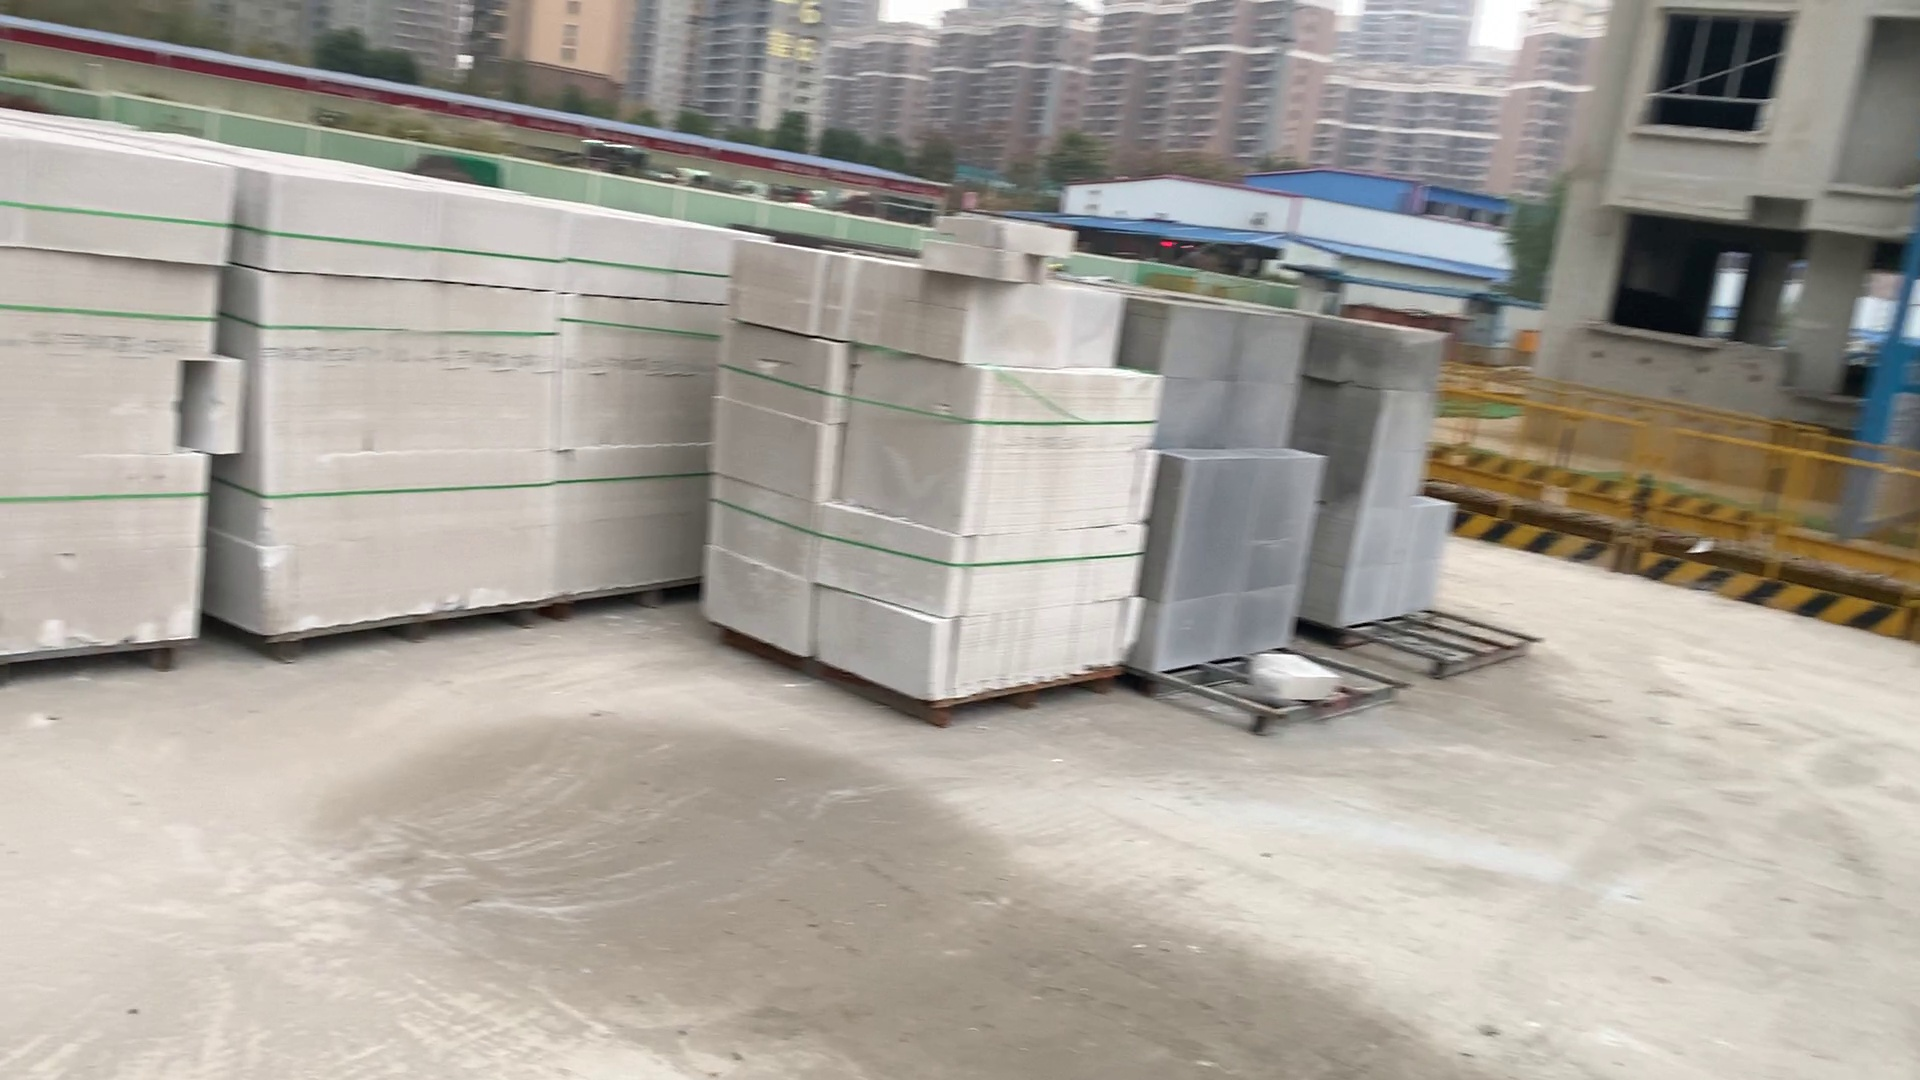brickwork: (686, 211, 1149, 724), (239, 166, 770, 603), (1, 144, 204, 655), (1112, 281, 1298, 705), (1309, 302, 1462, 665)
